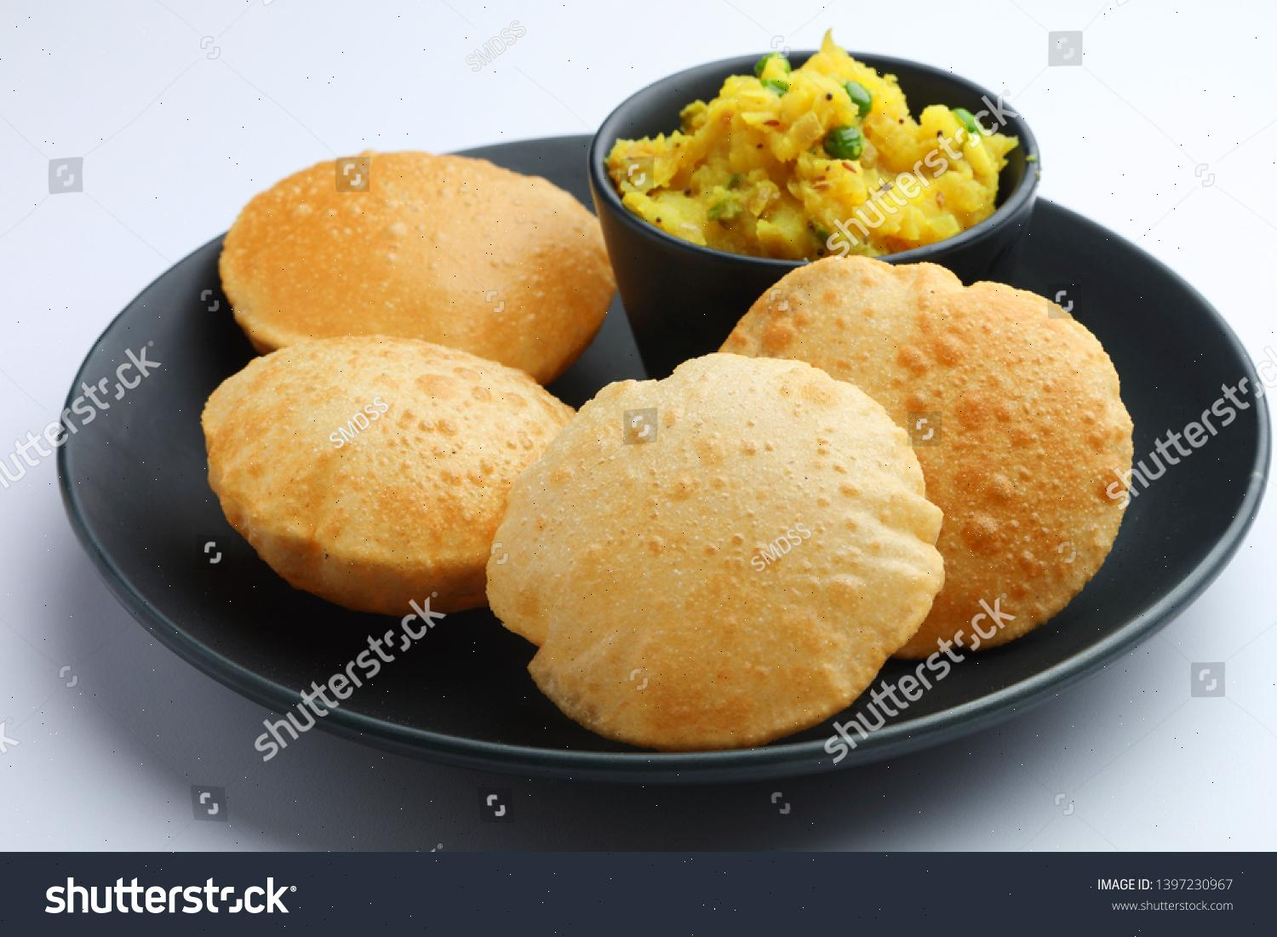puri: (217, 268, 1181, 704)
